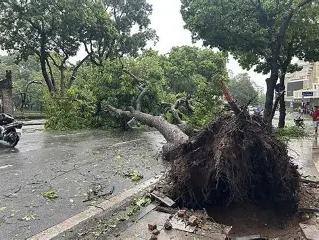ROAD_OBSTACLE: (79, 100, 309, 240)
